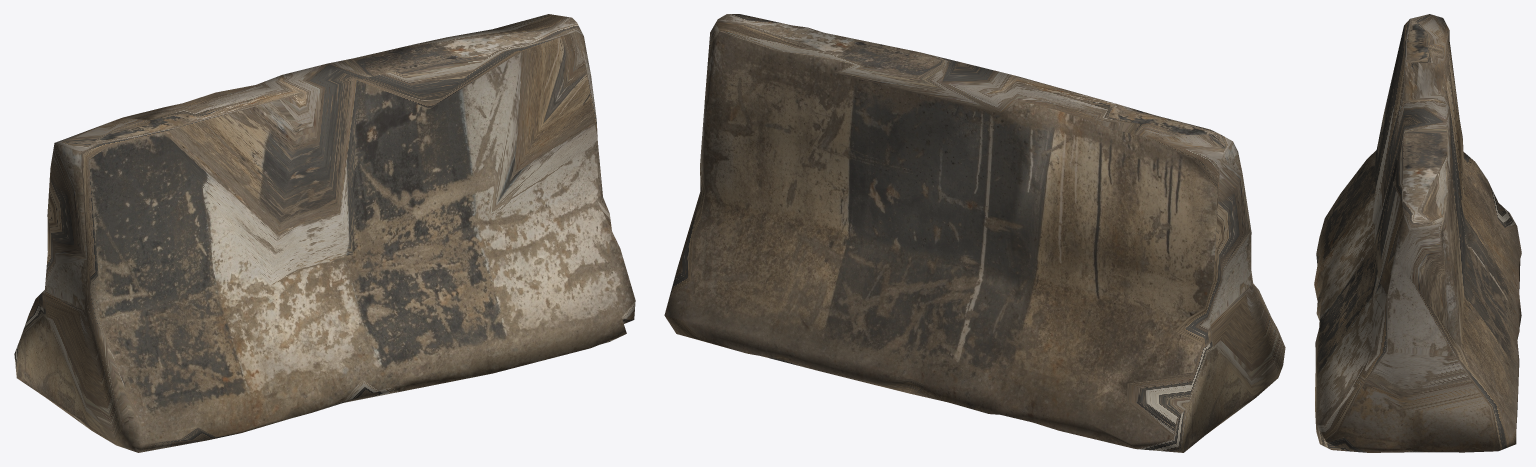
Rendered from concrete_road_barrier_opt.gltf.
3 views of the same model, side by side, from view 1: azimuth 30°, elevation 25°; view 2: azimuth 150°, elevation 25°; view 3: azimuth 270°, elevation 25° (orthographic). The views are drawn at different scales.
Parts seen in each view (by area): view 1: concrete_road_barrier; view 2: concrete_road_barrier; view 3: concrete_road_barrier.
Boxes of the visible parts, bbox=[...] form: concrete_road_barrier: bbox=[14, 14, 635, 452]; concrete_road_barrier: bbox=[664, 14, 1285, 452]; concrete_road_barrier: bbox=[1314, 14, 1521, 452].
Bounding box in the file's own units: 1.54 × 0.8063 × 0.6379.
Materials: 1 (1 with a texture image).
